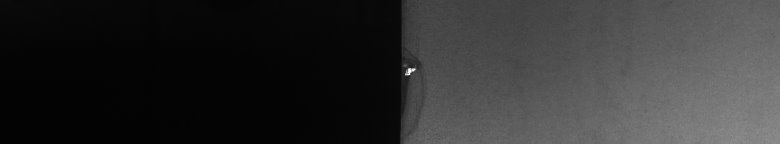hb: (412, 52, 428, 135)
